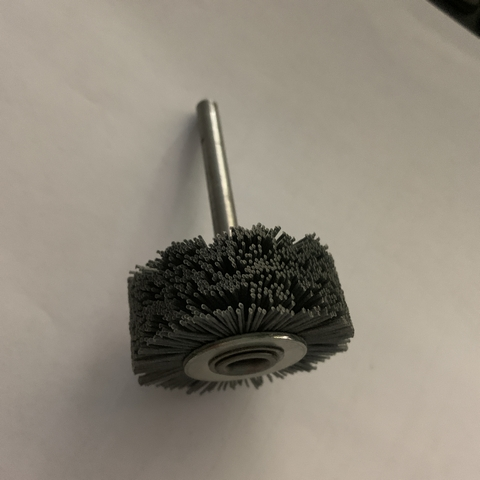Wheel Brush: (116, 92, 375, 400), (117, 160, 385, 394), (110, 120, 335, 392), (104, 96, 320, 373)
